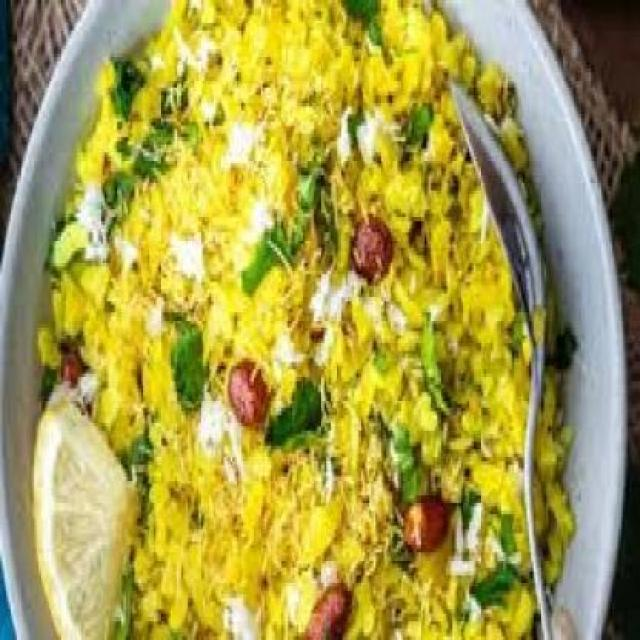poha: (38, 0, 574, 640)
